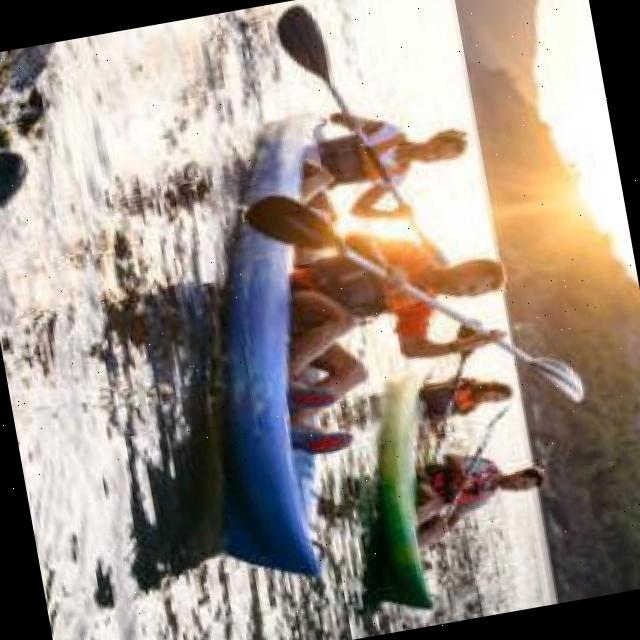kayak: (212, 218, 318, 580), (359, 383, 486, 615)
